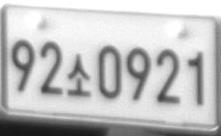0: (97, 44, 122, 100)
1: (184, 51, 211, 105)
2: (154, 48, 180, 104), (39, 40, 63, 94)
9: (124, 47, 151, 100), (10, 38, 35, 92)
소: (66, 53, 91, 96)
